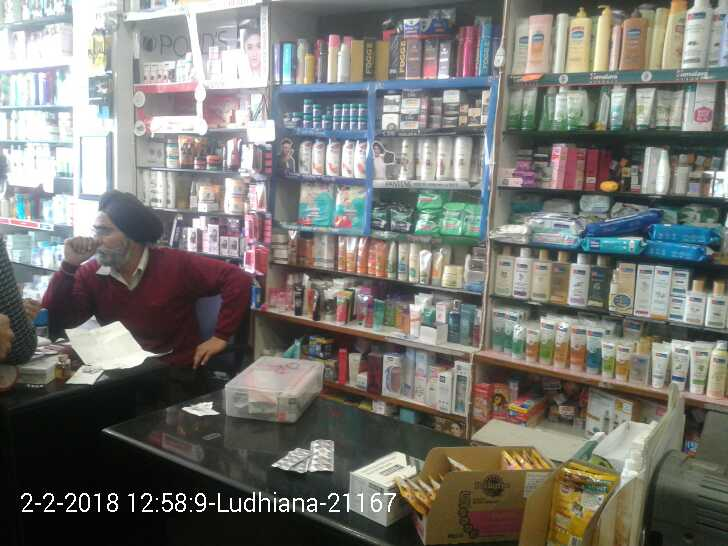vicks: (285, 94, 369, 134)
